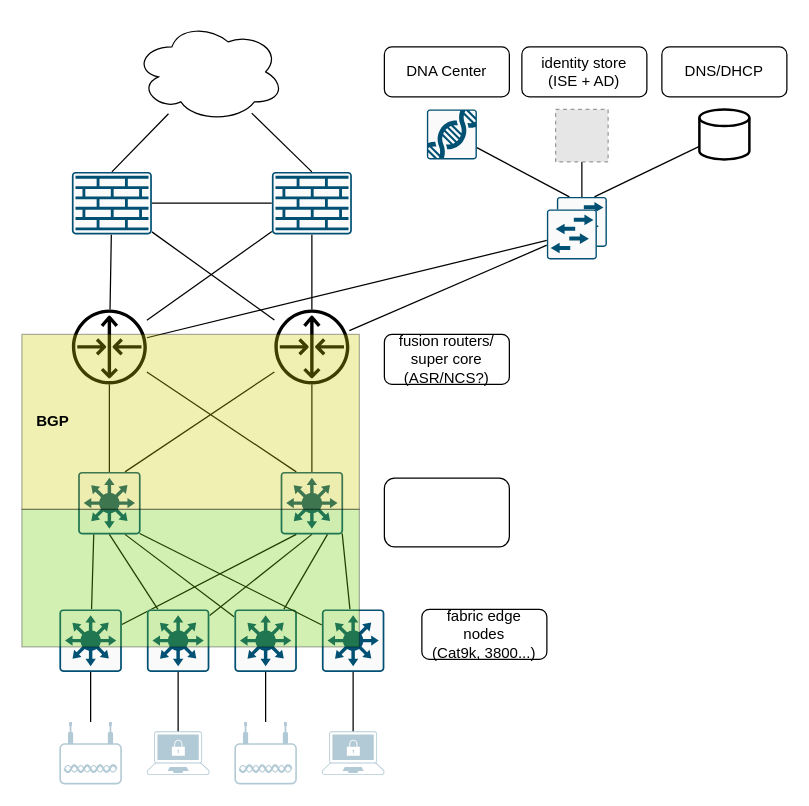
Some shapes in this 809 by 806 pixel diagram are drawn without their labels. Grey dashed boxes stand in for pictures. Here are the shapes that lost their labels. From the top down, the centre of each, then its label:
At (208,71): "Internet".
At (446,512): "fabric border + control plane nodes (Cat9500/9600?)".
At (190,577): "IS-IS".
